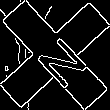N_NW: (23, 23, 87, 87)
